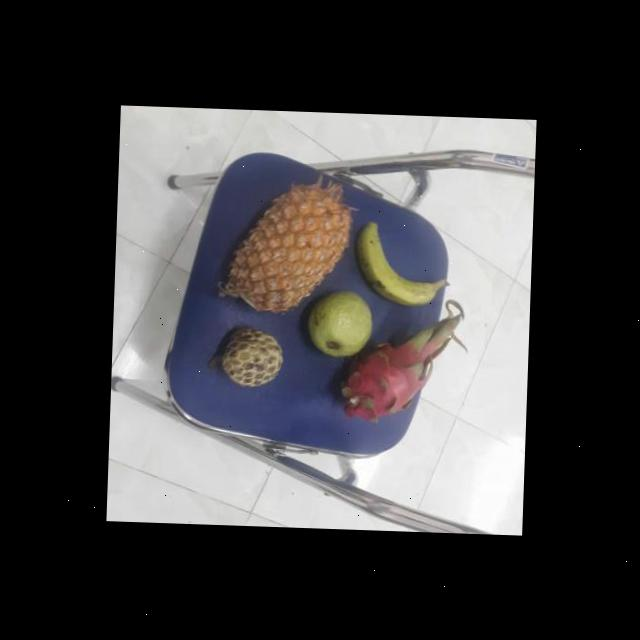Sakya fruit: (218, 320, 284, 386)
banana: (353, 217, 443, 306)
guava: (302, 286, 372, 358)
pineapple: (220, 174, 352, 313)
pitaya: (338, 313, 444, 420)
